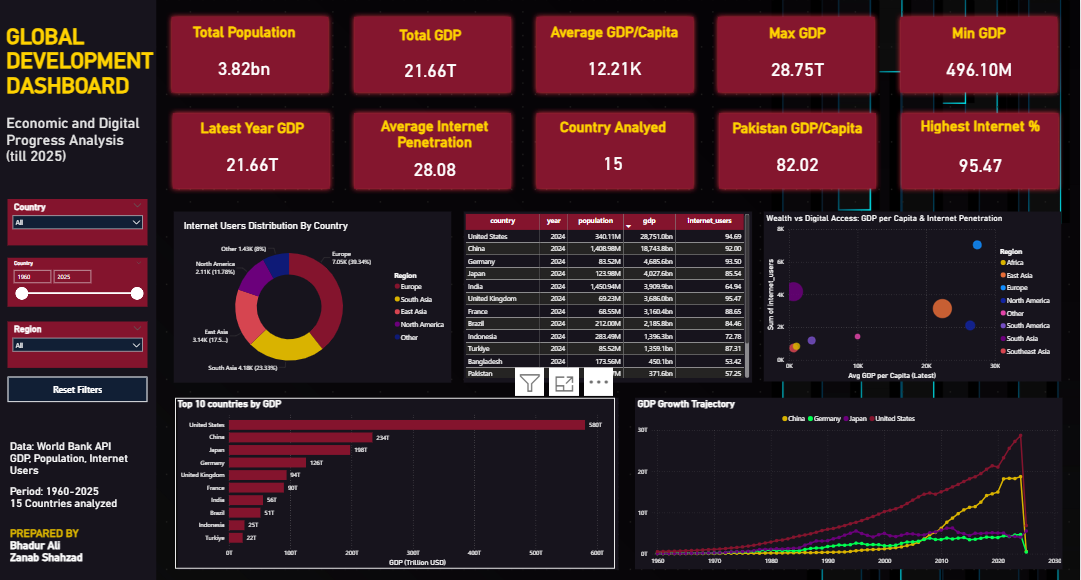

This screenshot's page, from the dashboard's own definition file:
{"tool":"powerbi","page":{"name":"Page 1","canvas":[1920,1650],"ordinal":0},"visuals":[{"type":"shape","box":[0,487.5,1920,137.5],"z":0},{"type":"textbox","box":[10,10,1910,106],"z":1000},{"type":"cardVisual","title":"Total Population","fields":{"Data":["Final Table.Total Population"]},"box":[36,132,350,150],"z":2000},{"type":"cardVisual","title":"Total GDP","fields":{"Data":["Final Table.Total GDP (Trillions)"]},"box":[409.8,131.7,350,150],"z":3000},{"type":"cardVisual","title":"Average GDP/Capita","fields":{"Data":["Final Table.Average GDP per Capita"]},"box":[783.7,131.5,350,150],"z":4000},{"type":"cardVisual","title":"Max GDP","fields":{"Data":["Final Table.Max_GDP"]},"box":[1157.5,131.2,350,150],"z":5000},{"type":"cardVisual","title":"Min GDP","fields":{"Data":["Final Table.Min_GDP"]},"box":[1531.3,131.1,348.9,149.9],"z":6000},{"type":"barChart","title":"Top 10 countries by GDP","fields":{"Category":["Final Table.country"],"Y":["Sum(Final Table.gdp)"]},"box":[36.7,728.2,900,416.7],"z":7000},{"type":"lineChart","title":"GDP Growth Trajectory","fields":{"Y":["Sum(Final Table.gdp)"],"Category":["Final Table.year"],"Series":["Final Table.country"]},"box":[980,728.2,900,410],"z":8000},{"type":"donutChart","title":"Internet Users Distribution By Country","fields":{"Y":["Sum(Final Table.internet_users)"],"Category":["Final Table.Region"]},"box":[36,1181.8,488,440],"z":9000},{"type":"tableEx","fields":{"Values":["Final Table.country","Final Table.year","Final Table.population","Final Table.gdp","Final Table.internet_users"]},"box":[568,1179.8,590,442],"z":10000},{"type":"scatterChart","title":"Wealth vs Digital Access: GDP per Capita & Internet Penetration","fields":{"X":["Final Table.Average GDP per Capita"],"Y":["Sum(Final Table.internet_users)"],"Size":["Sum(Final Table.population)"],"Series":["Final Table.Region"]},"box":[1190,1179.8,690,442],"z":11000},{"type":"cardVisual","title":"Latest Year GDP","fields":{"Data":["Final Table.Latest GDP"]},"box":[36.7,310,350,150],"z":12000},{"type":"cardVisual","title":"Average Internet Penetration","fields":{"Data":["Final Table.Avg_internet%"]},"box":[410,310,350,150],"z":13000},{"type":"cardVisual","title":"Country Analyed","fields":{"Data":["Final Table.country_count"]},"box":[785,310,350,150],"z":14000},{"type":"cardVisual","title":"Pakistan GDP/Capita","fields":{"Data":["Final Table.Pakistan GDP per Capita"]},"box":[1157.5,310,350,150],"z":15000},{"type":"cardVisual","title":"Highest Internet %","fields":{"Data":["Final Table.Highest Internet Penetration"]},"box":[1532.5,310,350,150],"z":16000},{"type":"slicer","title":"Count","fields":{"Values":["Final Table.country"]},"box":[33.7,499.1,600,105.7],"z":17000},{"type":"slicer","title":"Count","fields":{"Values":["Final Table.year"]},"box":[662.6,502.2,600,104],"z":18000},{"type":"slicer","title":"Count","fields":{"Values":["Final Table.Region"]},"box":[1292.6,502.2,600,104],"z":19000}]}

Visuals, with their boxes on the page's 1920x1650 design canvas (x1, y1, x2, y2). These are canvas units, not pixel positions in the 1081x580 screenshot, which may show the page scaled, cropped or inside an application window:
shape: <box>0,488,1920,625</box>
textbox: <box>10,10,1920,116</box>
"Total Population" cardVisual: <box>36,132,386,282</box>
"Total GDP" cardVisual: <box>410,132,760,282</box>
"Average GDP/Capita" cardVisual: <box>784,132,1134,282</box>
"Max GDP" cardVisual: <box>1158,131,1508,281</box>
"Min GDP" cardVisual: <box>1531,131,1880,281</box>
"Top 10 countries by GDP" barChart: <box>37,728,937,1145</box>
"GDP Growth Trajectory" lineChart: <box>980,728,1880,1138</box>
"Internet Users Distribution By Country" donutChart: <box>36,1182,524,1622</box>
tableEx - Final Table.country x Final Table.year: <box>568,1180,1158,1622</box>
"Wealth vs Digital Access: GDP per Capita & Internet Penetration" scatterChart: <box>1190,1180,1880,1622</box>
"Latest Year GDP" cardVisual: <box>37,310,387,460</box>
"Average Internet Penetration" cardVisual: <box>410,310,760,460</box>
"Country Analyed" cardVisual: <box>785,310,1135,460</box>
"Pakistan GDP/Capita" cardVisual: <box>1158,310,1508,460</box>
"Highest Internet %" cardVisual: <box>1532,310,1882,460</box>
"Count" slicer: <box>34,499,634,605</box>
"Count" slicer: <box>663,502,1263,606</box>
"Count" slicer: <box>1293,502,1893,606</box>
